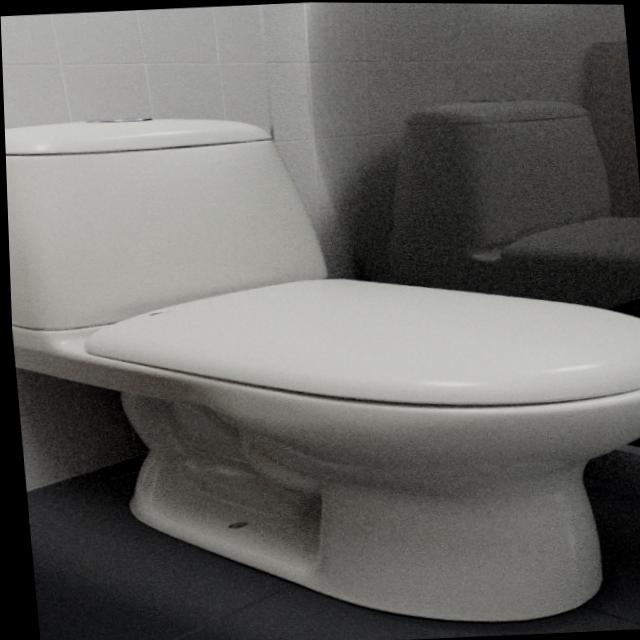toilet: (3, 90, 640, 640)
